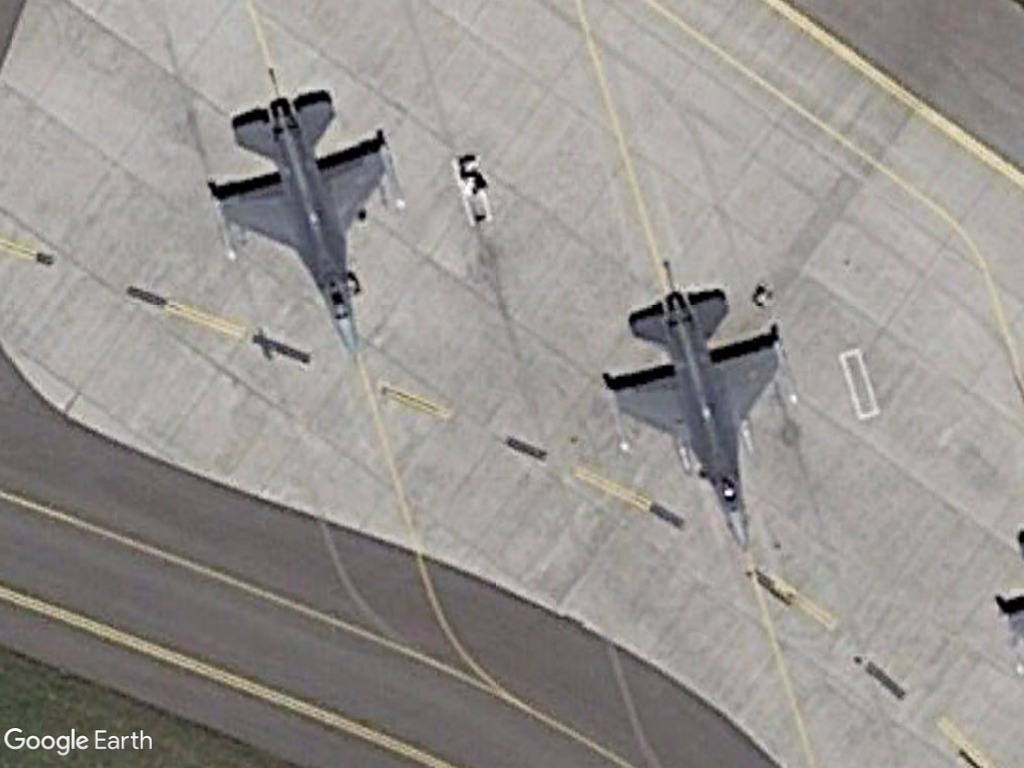fighter: (600, 276, 811, 566), (209, 87, 414, 383)
